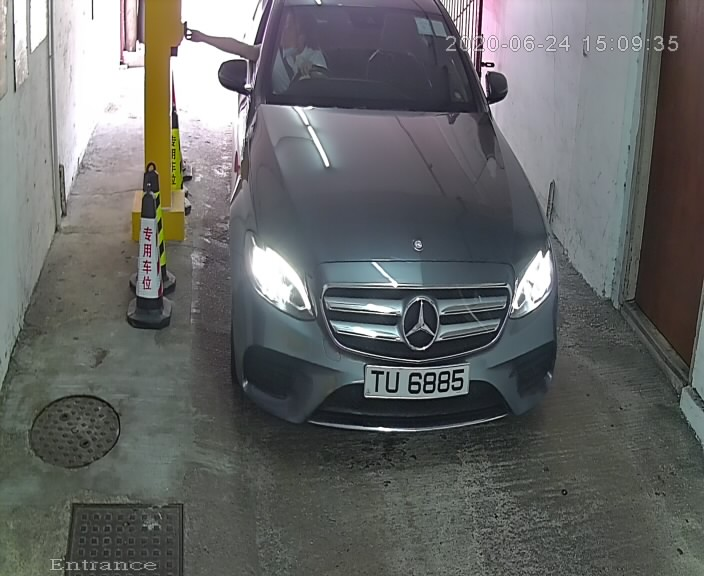Car: (191, 1, 582, 458)
License Plate: (360, 364, 478, 408)
